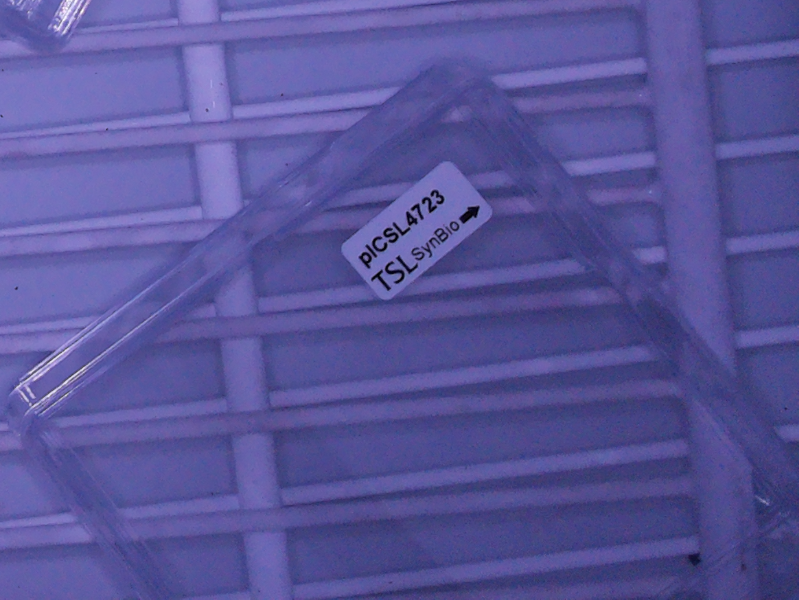plate: (4, 57, 799, 600), (1, 1, 92, 55)
